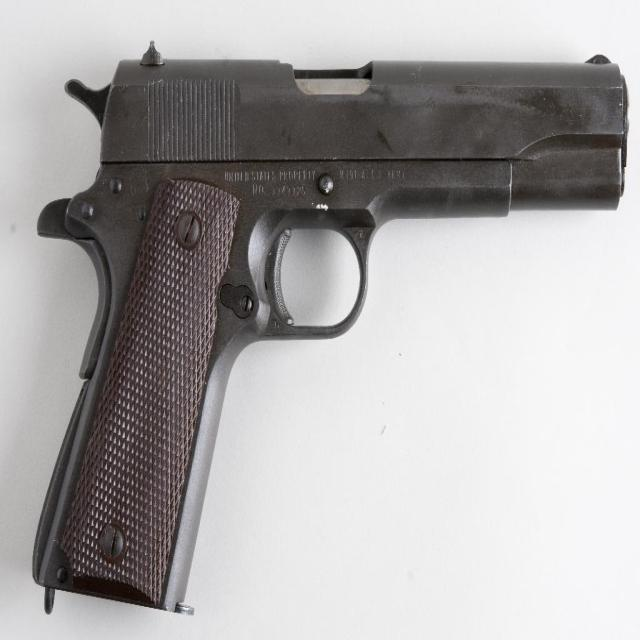Gun: (34, 46, 628, 609)
